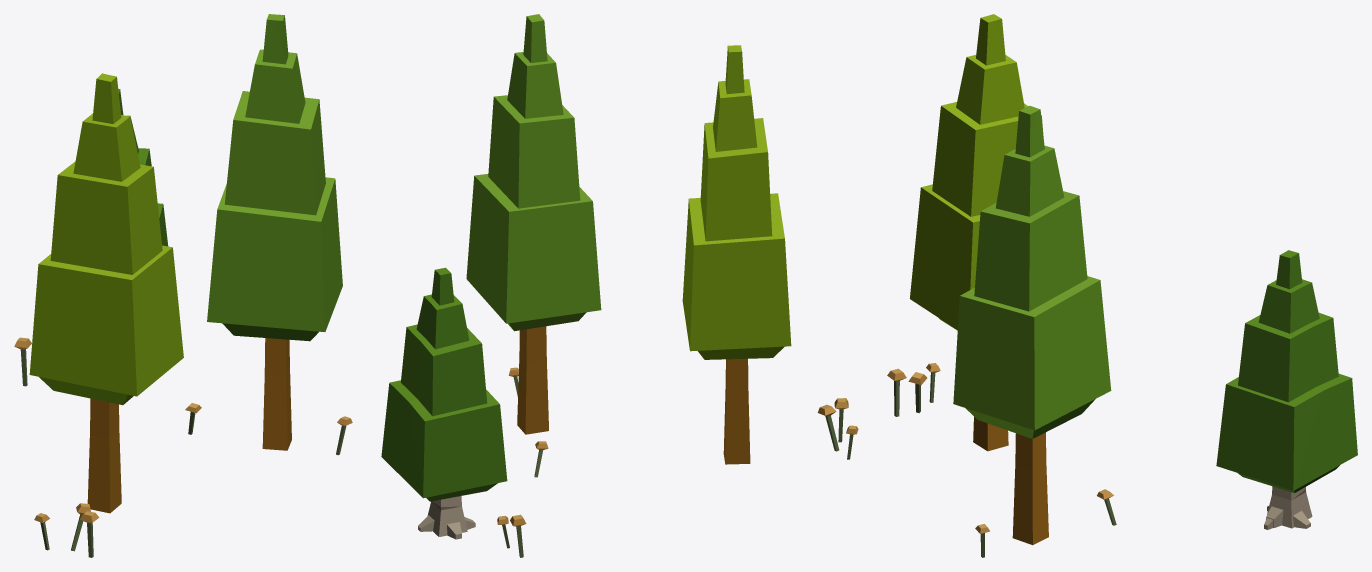
Rendered from SF_Env_Elven_Preset_01.fbx.
3 views of the same model, side by side, from view 1: azimuth 30°, elevation 25°; view 2: azimuth 150°, elevation 25°; view 3: azimuth 270°, elevation 25° (orthographic). The views are drawn at different scales.
Visible parts, largest first — view 1: SF_Env_Elven_Preset_01; view 2: SF_Env_Elven_Preset_01; view 3: SF_Env_Elven_Preset_01.
Boxes of the visible parts, bbox=[...] form: SF_Env_Elven_Preset_01: bbox=[14, 14, 352, 557]; SF_Env_Elven_Preset_01: bbox=[381, 14, 858, 557]; SF_Env_Elven_Preset_01: bbox=[887, 14, 1357, 557].
Bounding box in the file's own units: 11.15 × 13.02 × 12.73.
